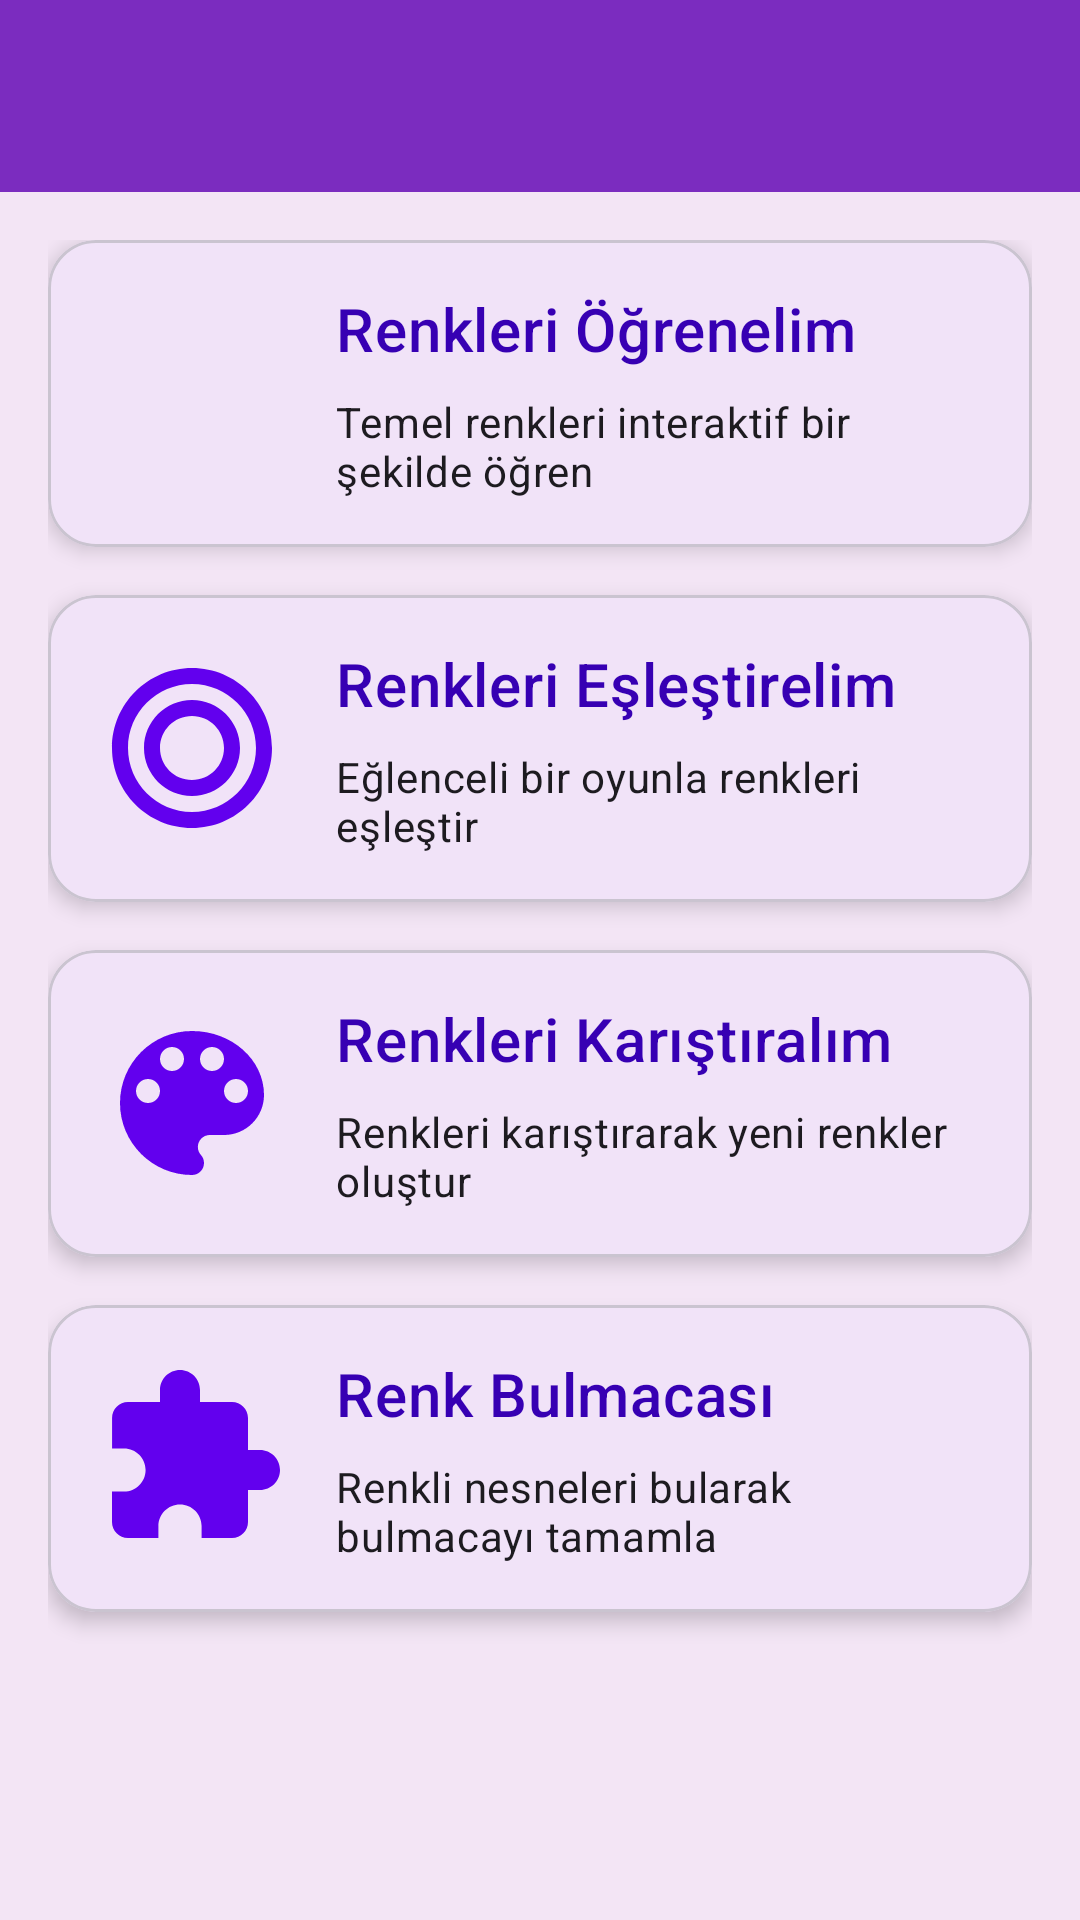

Where to tap for icons on this 1080px x 1920px app screen, as (x=x, y=y):
Renk bulmaca ikonu: (x=196, y=1454)
Renk eşleştirme ikonu: (x=192, y=748)
Renk karıştırma ikonu: (x=192, y=1103)
